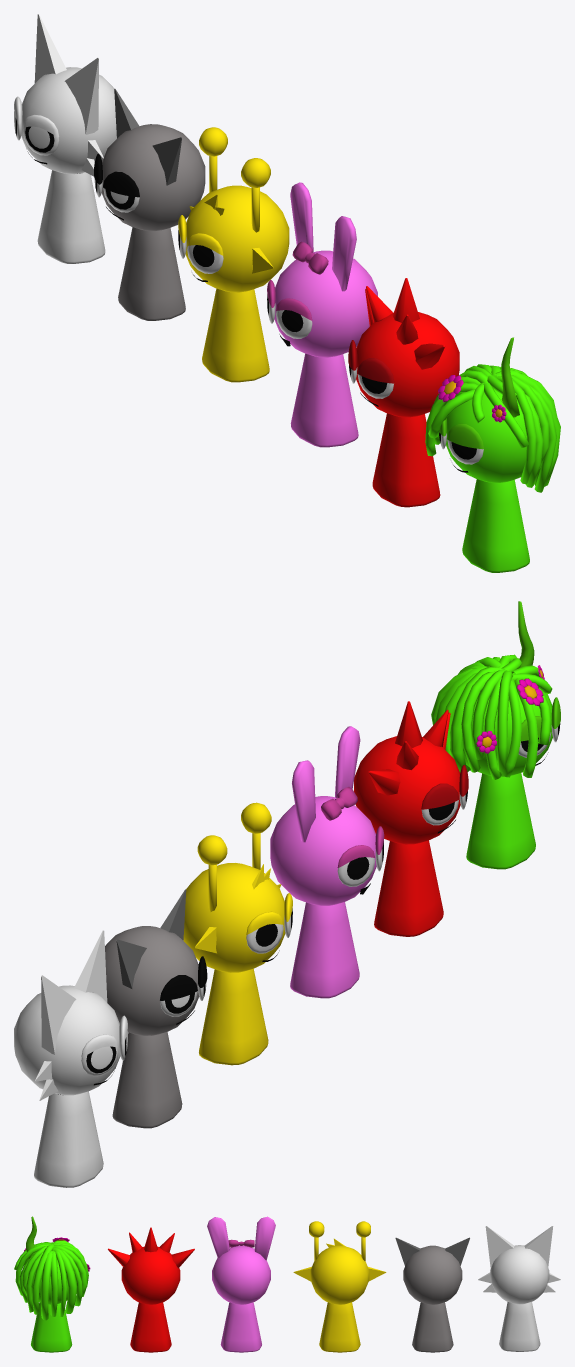
The model's file is sprunkis.fbx.
3 views of the same model, one above another, from view 1: azimuth 30°, elevation 25°; view 2: azimuth 150°, elevation 25°; view 3: azimuth 270°, elevation 25° (orthographic). The views are drawn at different scales.
Parts seen in each view (by area): view 1: Cube.024, Cube.022, Cube.023, Cube.021, Cube.026, Cube.030; view 2: Cube.024, Cube.023, Cube.022, Cube.021, Cube.030, Cube.026; view 3: Cube.024, Cube.023, Cube.021, Cube.022, Cube.030, Cube.026.
Boxes of the visible parts, x1=… form: Cube.024: x1=425, y1=337, x2=560, y2=572; Cube.022: x1=178, y1=127, x2=289, y2=382; Cube.023: x1=267, y1=182, x2=377, y2=447; Cube.021: x1=14, y1=14, x2=116, y2=263; Cube.026: x1=94, y1=89, x2=205, y2=320; Cube.030: x1=348, y1=278, x2=459, y2=507; Cube.024: x1=431, y1=601, x2=560, y2=869; Cube.023: x1=270, y1=726, x2=384, y2=998; Cube.022: x1=183, y1=802, x2=292, y2=1065; Cube.021: x1=14, y1=930, x2=127, y2=1187; Cube.030: x1=354, y1=701, x2=468, y2=936; Cube.026: x1=105, y1=889, x2=207, y2=1128; Cube.024: x1=14, y1=1216, x2=90, y2=1352; Cube.023: x1=207, y1=1216, x2=275, y2=1352; Cube.021: x1=478, y1=1226, x2=560, y2=1351; Cube.022: x1=293, y1=1221, x2=386, y2=1352; Cube.030: x1=108, y1=1227, x2=194, y2=1352; Cube.026: x1=395, y1=1237, x2=469, y2=1352.
Bounding box in the file's own units: 381 × 760 × 2907.
